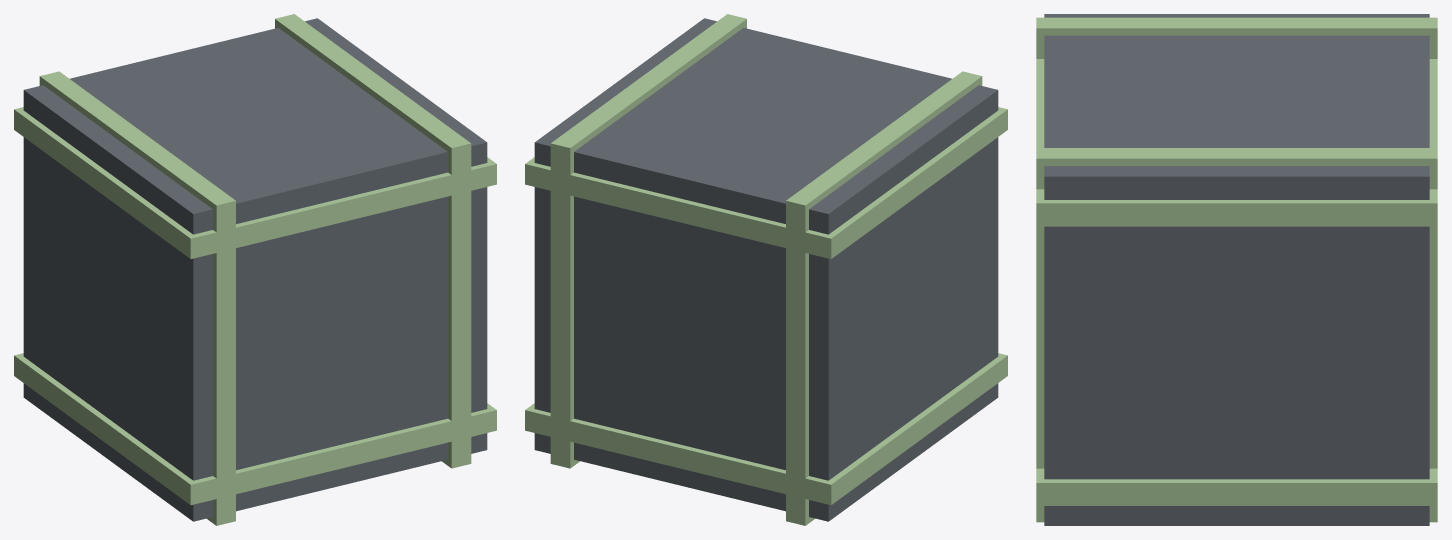
File: crate.glb
3 renders of one model, left to right at view 1: azimuth 30°, elevation 25°; view 2: azimuth 150°, elevation 25°; view 3: azimuth 270°, elevation 25°, orthographic. The views are drawn at different scales.
Parts seen in each view (by area): view 1: crate_0, crate_3, crate_1, crate_2, crate_4; view 2: crate_0, crate_3, crate_1, crate_2, crate_4; view 3: crate_0, crate_4, crate_3, crate_2, crate_1.
Part boxes in pixels (x1,y1,x2,y2): crate_0: [23, 18, 487, 521]; crate_3: [275, 14, 471, 468]; crate_1: [39, 71, 235, 525]; crate_2: [14, 353, 496, 505]; crate_4: [14, 107, 496, 258]; crate_0: [534, 18, 998, 521]; crate_3: [550, 14, 746, 468]; crate_1: [786, 71, 982, 525]; crate_2: [525, 353, 1007, 505]; crate_4: [525, 107, 1007, 258]; crate_0: [1044, 14, 1429, 525]; crate_4: [1036, 59, 1437, 226]; crate_3: [1036, 148, 1437, 522]; crate_2: [1036, 468, 1437, 505]; crate_1: [1036, 17, 1437, 58].
Size of the model in its own units: 1.25 by 1.25 by 1.25.
